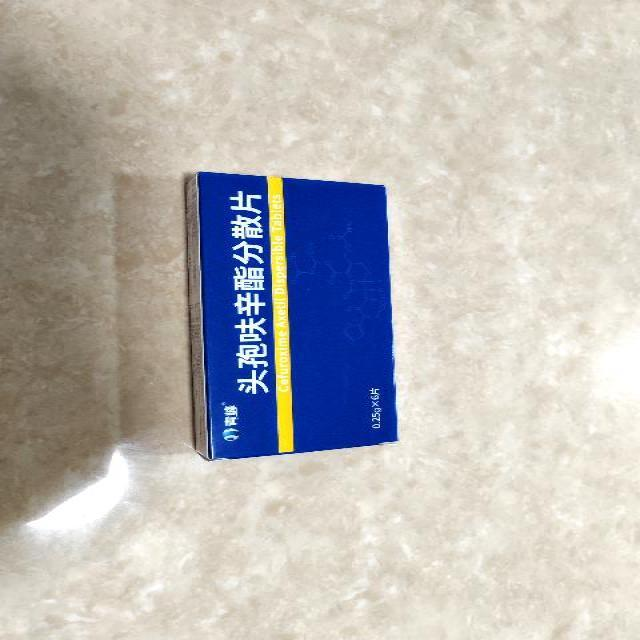box: (184, 172, 398, 462)
